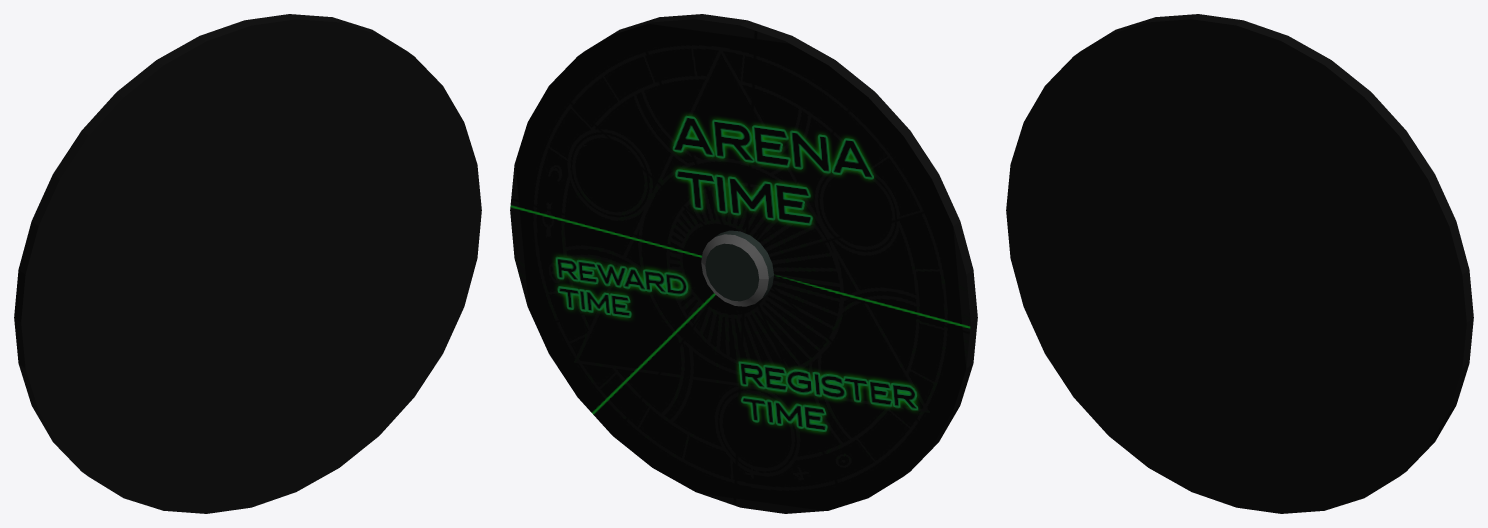
3 views of the same model, side by side, from view 1: azimuth 30°, elevation 25°; view 2: azimuth 150°, elevation 25°; view 3: azimuth 330°, elevation 25° (orthographic).
Parts seen in each view (by area): view 1: Circle; view 2: Circle, anchor, anchor.001; view 3: Circle.
Boxes of the visible parts, box(x1,y1,x2,y2) form: Circle: box(14, 14, 481, 513); Circle: box(510, 14, 977, 513); anchor: box(701, 230, 773, 278); anchor.001: box(701, 262, 773, 306); Circle: box(1006, 14, 1473, 513).
Bounding box in the file's own units: 5.47 × 5.47 × 0.3134.
2 materials, 2 textured.
